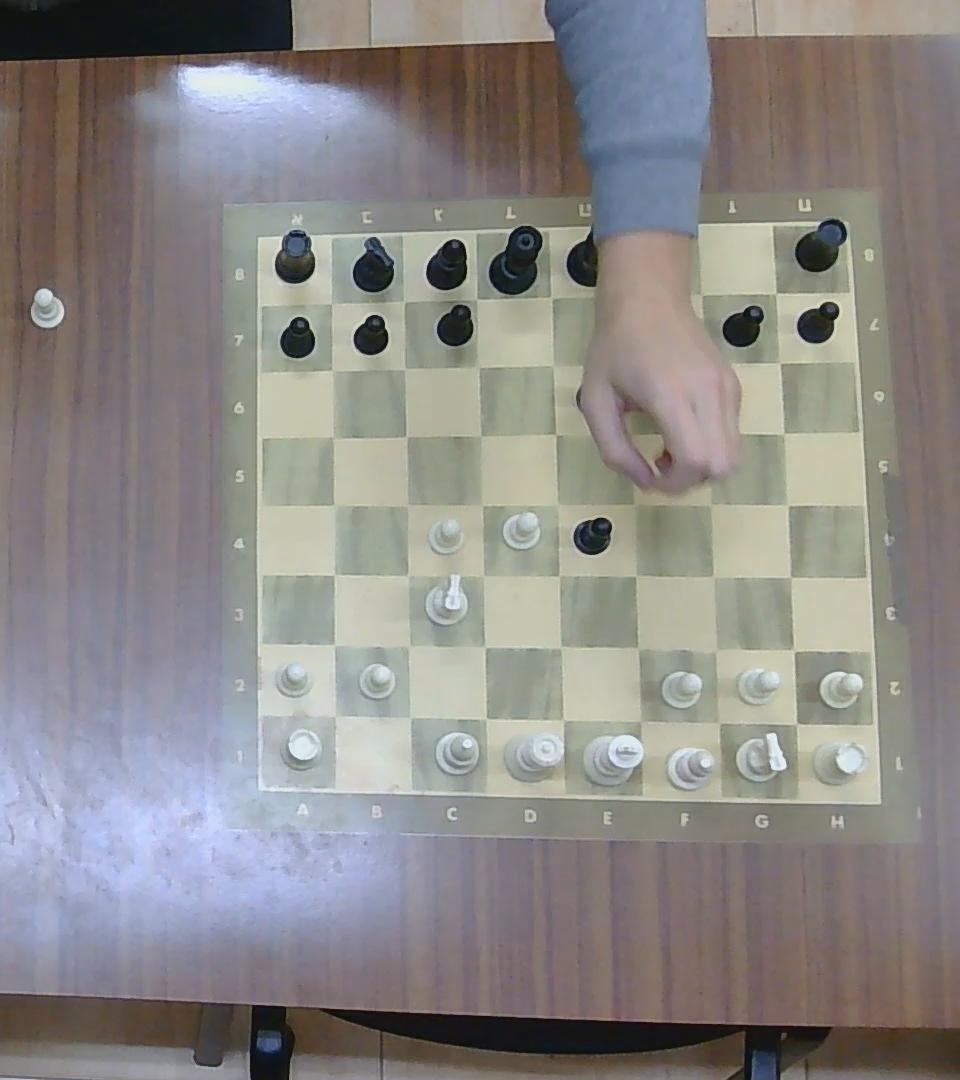xcorner: (778, 705, 813, 739), (620, 631, 654, 664), (702, 705, 734, 738), (623, 704, 656, 736), (468, 630, 500, 662), (543, 630, 575, 662), (546, 702, 578, 734), (469, 703, 501, 734), (319, 699, 350, 731), (699, 634, 731, 665), (775, 561, 806, 592), (393, 701, 423, 732), (393, 630, 423, 661), (698, 561, 728, 592), (777, 634, 808, 664), (319, 629, 349, 659), (467, 560, 496, 590), (621, 560, 650, 590), (393, 560, 422, 590), (544, 560, 573, 590), (319, 559, 348, 588), (773, 488, 802, 517), (461, 284, 490, 313), (543, 488, 572, 517), (537, 282, 566, 311), (467, 488, 495, 517), (464, 351, 492, 380), (393, 490, 421, 518), (317, 421, 345, 449), (697, 490, 725, 518), (320, 490, 348, 518), (611, 280, 638, 309), (317, 356, 345, 383), (317, 288, 345, 315), (770, 418, 798, 445), (693, 418, 721, 445), (622, 488, 648, 517), (543, 420, 570, 447), (389, 286, 416, 313), (688, 280, 716, 306), (392, 422, 419, 448), (467, 420, 493, 447), (692, 349, 718, 376), (390, 355, 416, 380), (540, 351, 565, 377), (763, 279, 789, 304), (616, 421, 641, 446), (610, 353, 635, 378), (767, 350, 792, 374)
